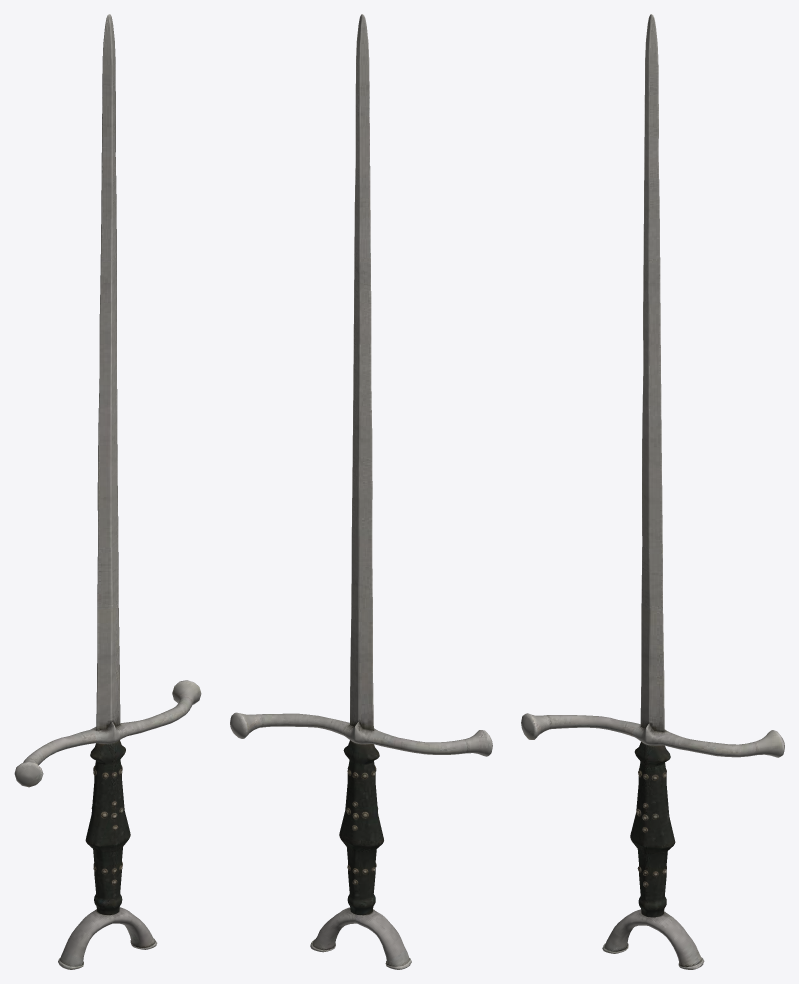
The model's file is natural-sword-weathered.glb.
3 renders of one model, left to right at view 1: azimuth 30°, elevation 25°; view 2: azimuth 150°, elevation 25°; view 3: azimuth 330°, elevation 25°, orthographic.
Parts seen in each view (by area): view 1: natural-sword-weathered runtime mesh; view 2: natural-sword-weathered runtime mesh; view 3: natural-sword-weathered runtime mesh.
Part boxes in pixels (box(x1,y1,x2,y2)): natural-sword-weathered runtime mesh: box(14, 14, 201, 969); natural-sword-weathered runtime mesh: box(230, 14, 492, 969); natural-sword-weathered runtime mesh: box(521, 14, 784, 969).
Bounding box in the file's own units: 0.2738 × 1.1 × 0.1099.
1 material, 1 textured.
